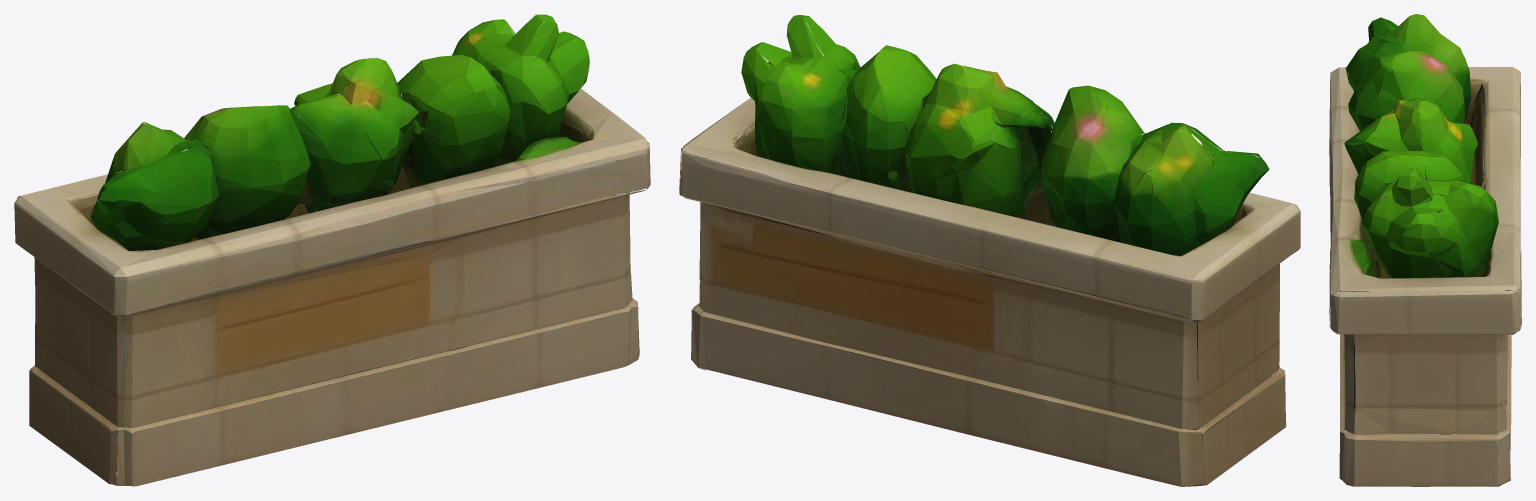
The model's file is city_shrub.glb.
3 renders of one model, left to right at view 1: azimuth 30°, elevation 25°; view 2: azimuth 150°, elevation 25°; view 3: azimuth 270°, elevation 25°, orthographic. The views are drawn at different scales.
Parts seen in each view (by area): view 1: geometry_0; view 2: geometry_0; view 3: geometry_0.
Boxes of the visible parts, box(x1,y1,x2,y2) form: geometry_0: box(14, 14, 650, 486); geometry_0: box(679, 15, 1300, 486); geometry_0: box(1329, 14, 1521, 486).
Bounding box in the file's own units: 0.9985 × 0.5939 × 0.3547.
Materials: 1 (1 with a texture image).
